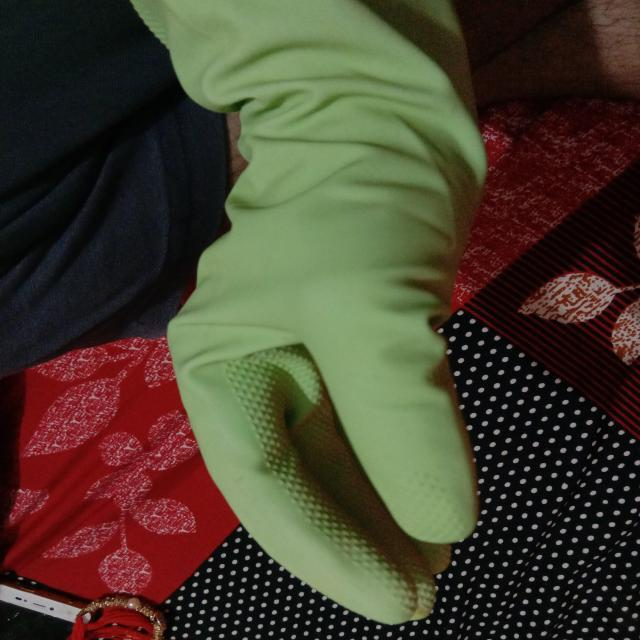gloved_hand: (126, 1, 498, 624)
